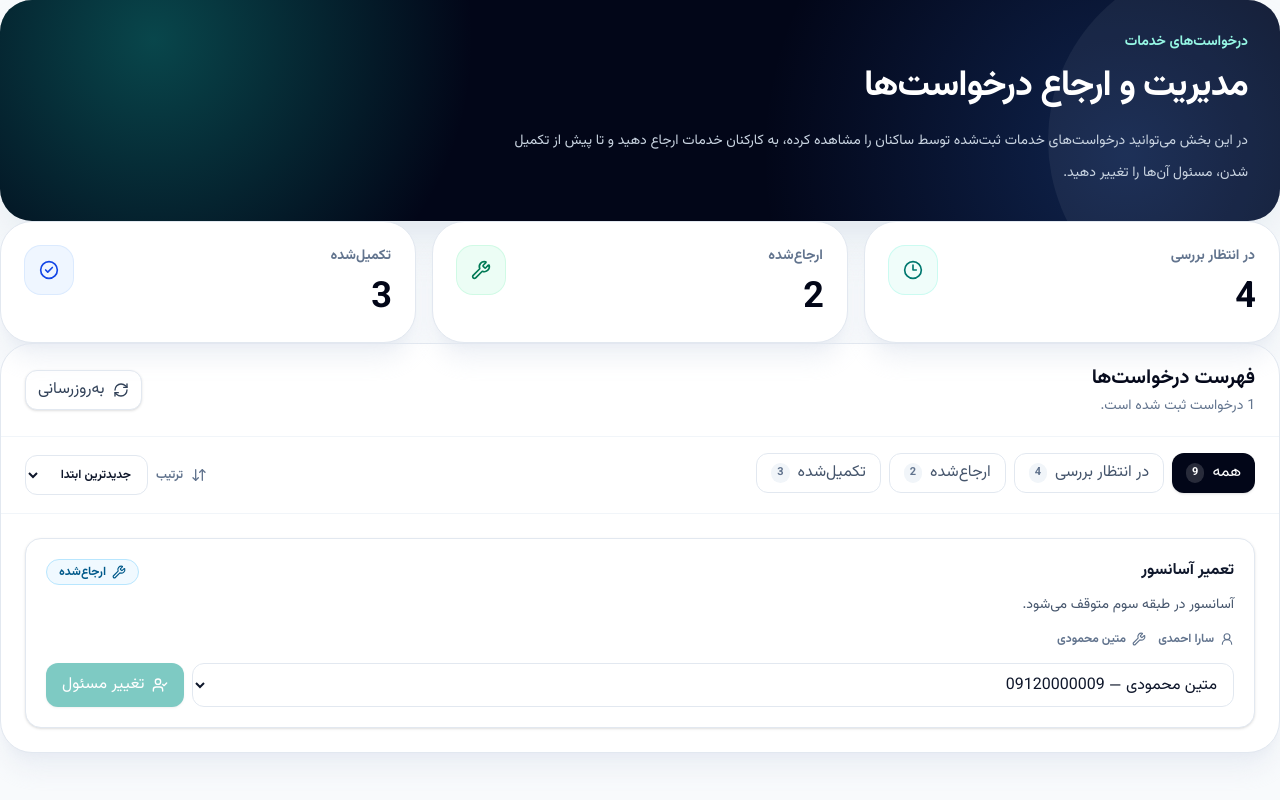
Test: ServiceRequestsSection › keeps the reassign button disabled until a different member is picked
Expected: the button "تغییر مسئول" is disabled, [46,663,184,707]
Select "رضا کریمی — 09120000010" in the dropdown named "مسئول درخواست تعمیر آسانسور" at (713, 685), box [192,663,1234,707]
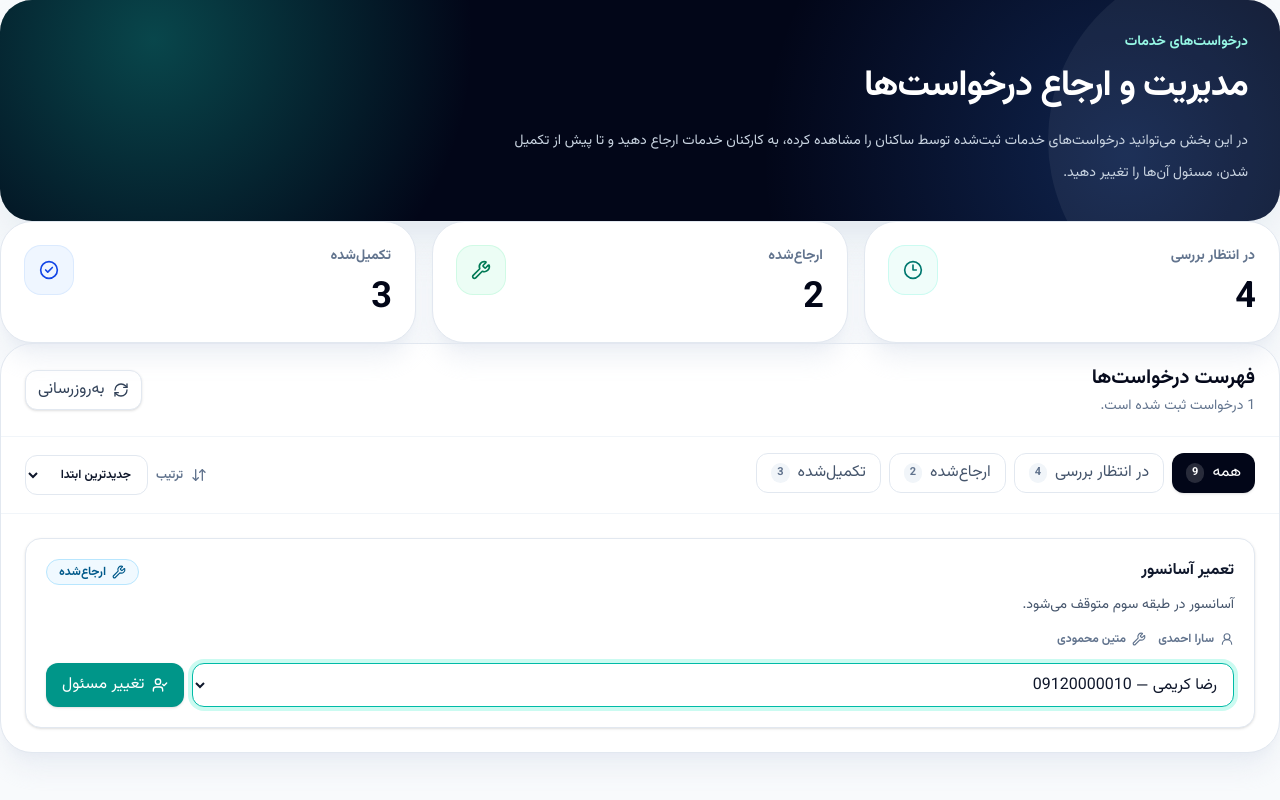
Now the button "تغییر مسئول" is enabled, box [46,663,184,707]
